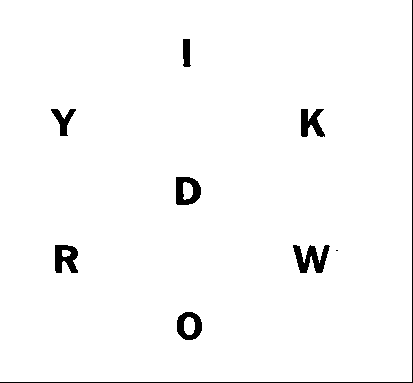I: (178, 35, 198, 75)
